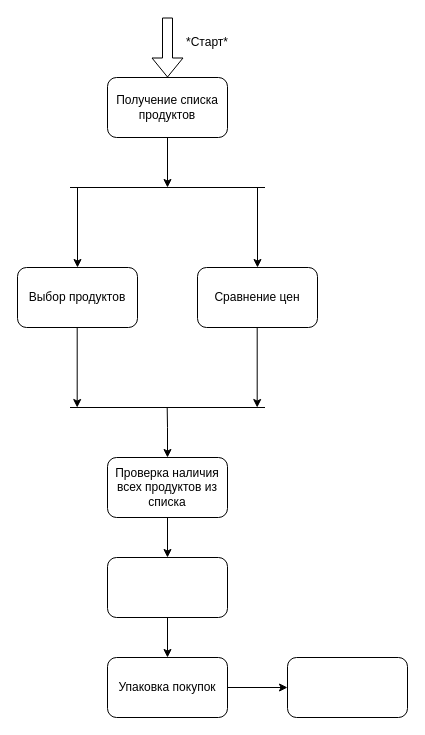
Image size: 425x735. Some labels were removed from this diagram. The shapes that lost their labels are listed below. From the top down, each one's box as (x1, y1, x2, y2) in pixels, then its label:
(106, 556, 228, 618): Оплата на кассе
(286, 656, 408, 718): Завершение процесса
